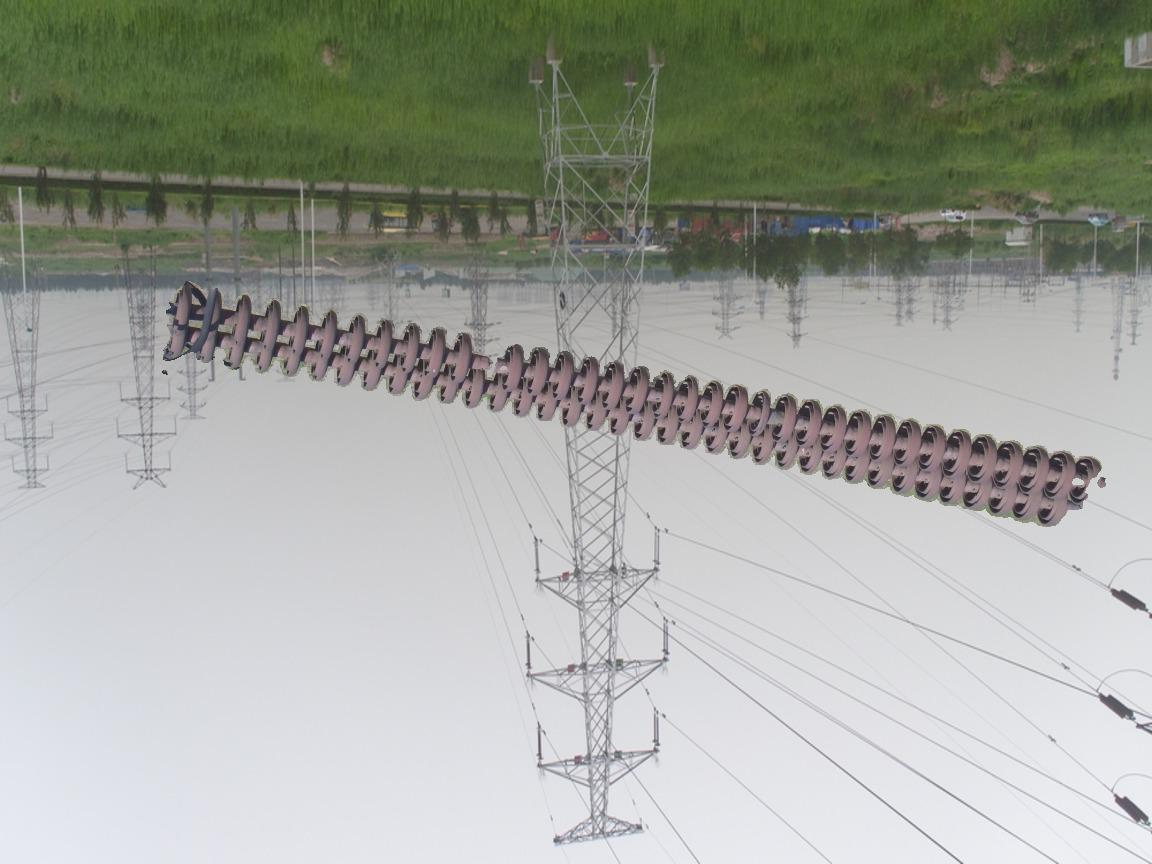insulator: (159, 278, 1107, 530)
insulator_stringdrop: (444, 328, 526, 395)
